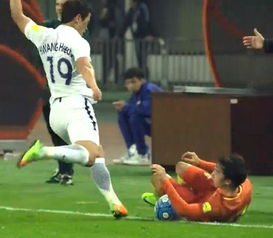fall: (139, 138, 255, 226)
